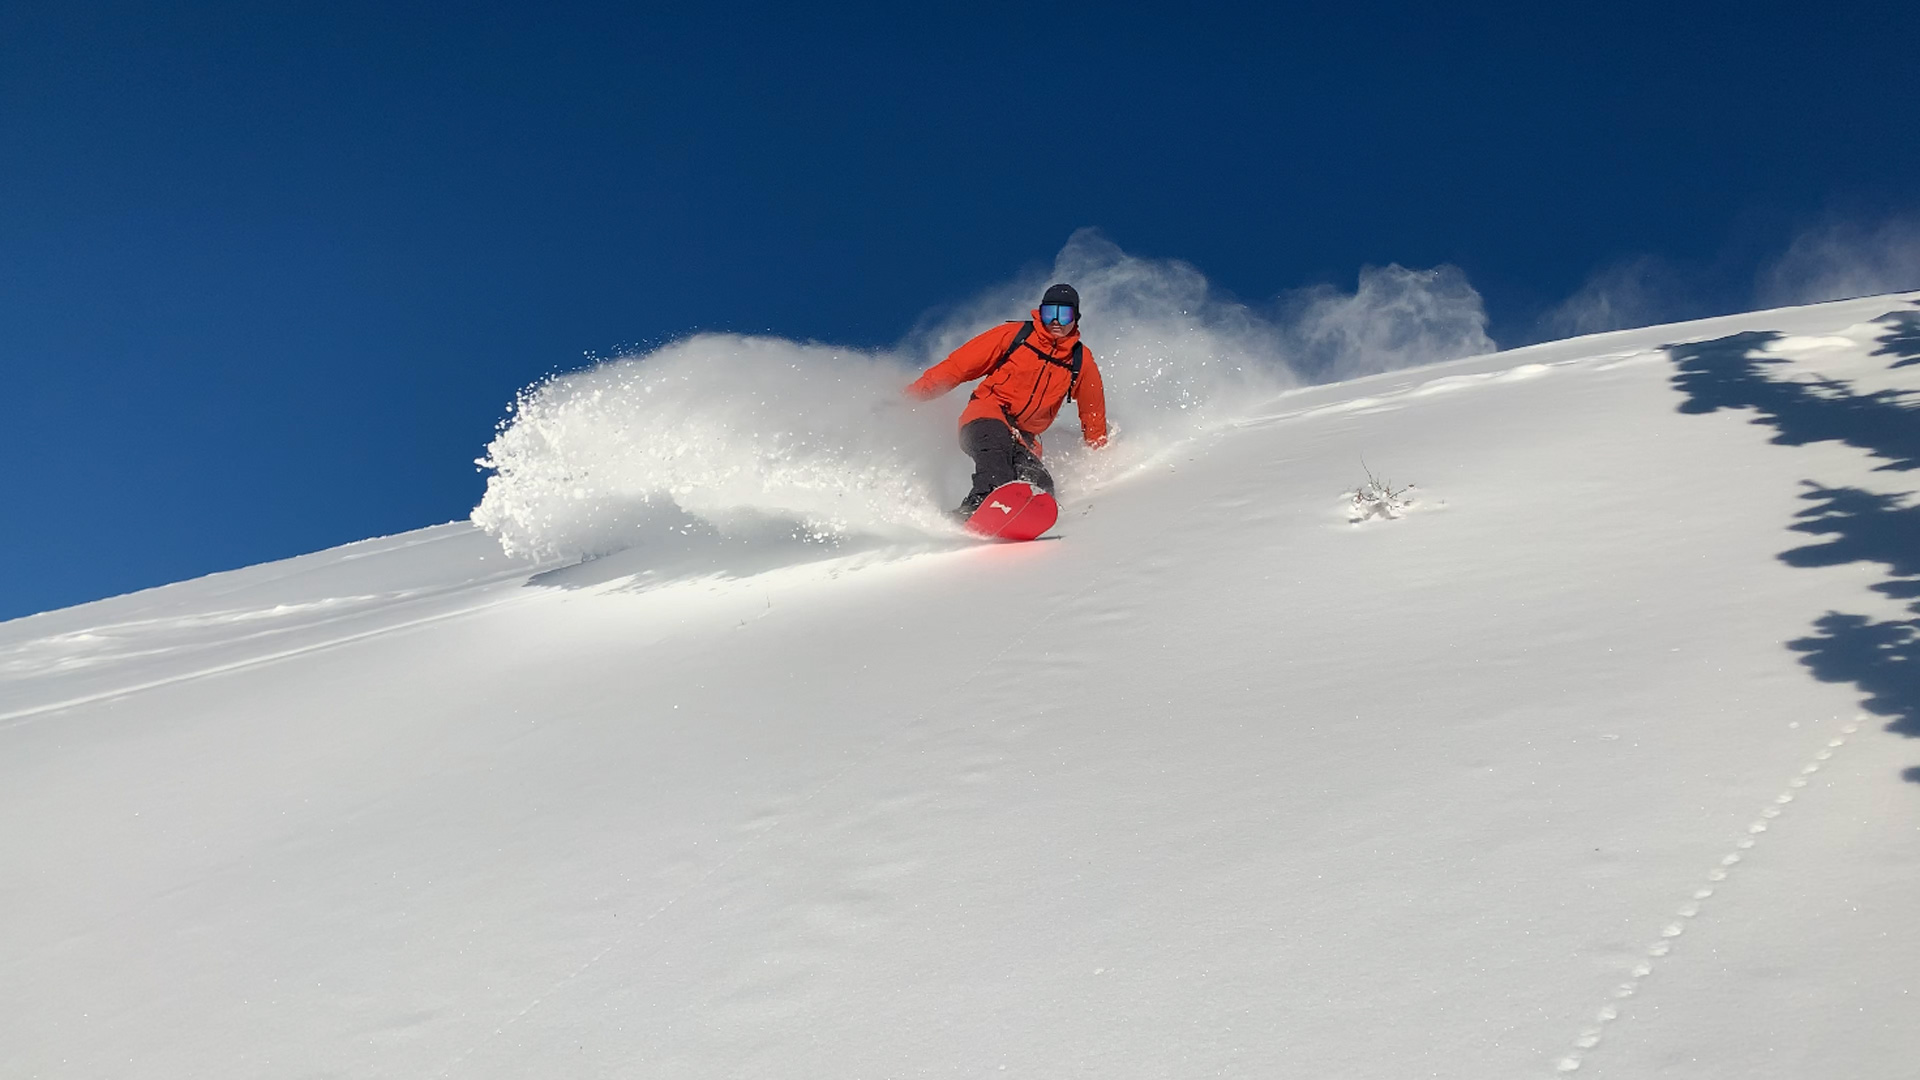snowboarder: (884, 284, 1114, 539)
